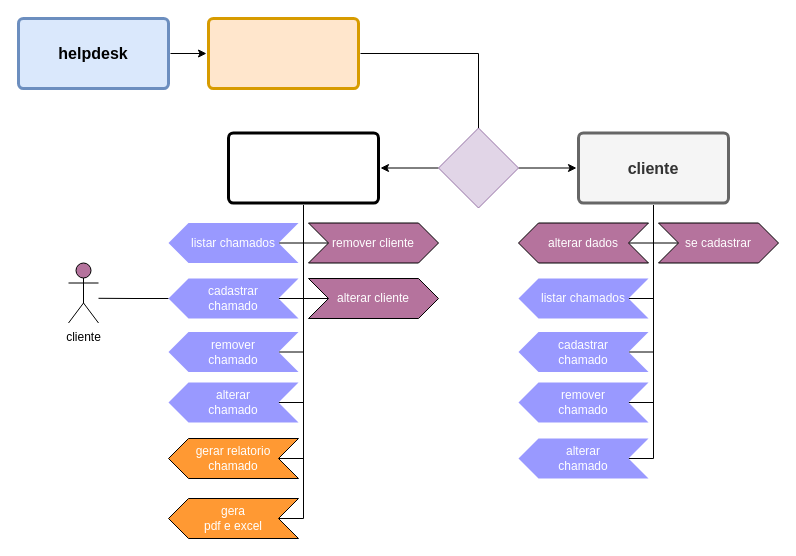
This 796x556 diagram has some shape labels left out. Each missing label, with the centre of its shape:
"funcionário" belongs at point (303, 167).
"login" belongs at point (478, 167).
"usuarios" belongs at point (283, 53).
